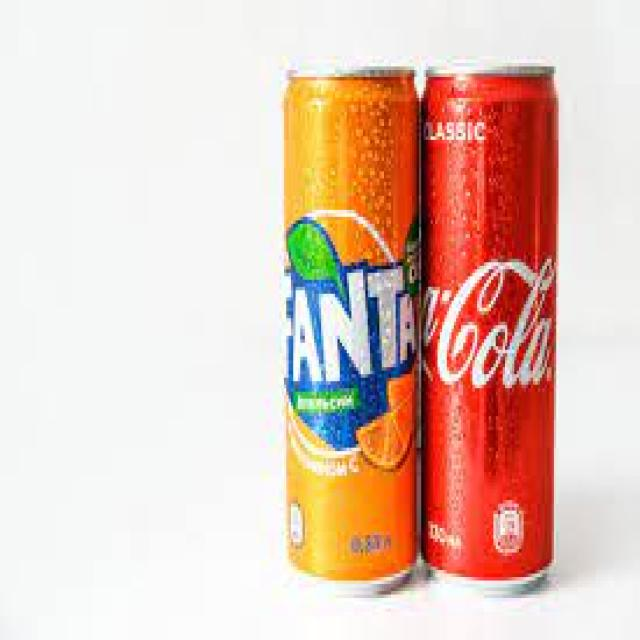Cans: (414, 46, 563, 608), (274, 52, 424, 594)
